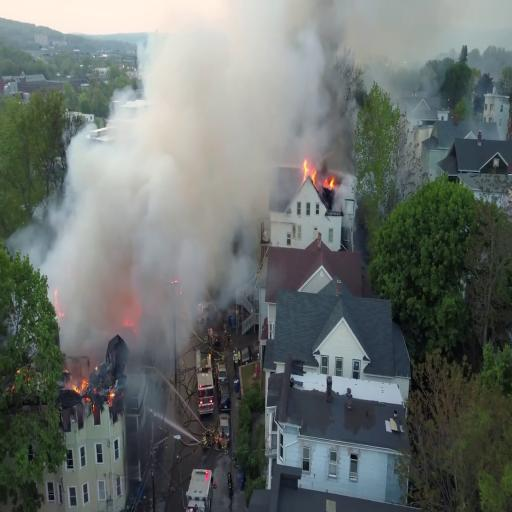smoke: (80, 139, 202, 293)
